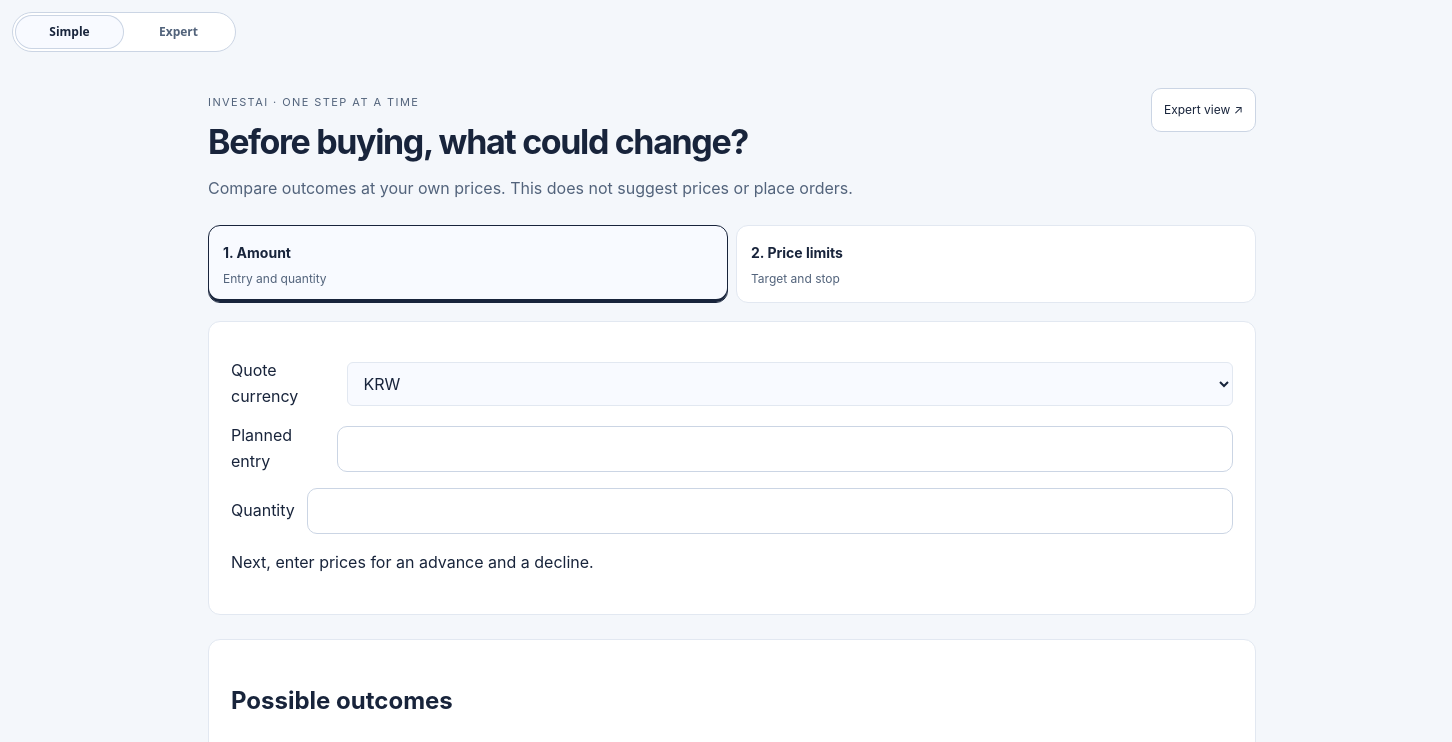
Test case: keeps purchase inputs when switching tasks and modes, and calculates the same outcome
The width and height of the screenshot is (1452, 742).
Type "100" into the number field labelled "Planned entry". click: point(785, 449)
box: top-left (336, 426), bottom-right (1233, 472)
Type "2" into the number field labelled "Quantity". click: point(770, 511)
box: top-left (307, 488), bottom-right (1233, 534)
Click the button "2. Price limits Target and stop". click: point(797, 253)
box: top-left (736, 225), bottom-right (1256, 303)
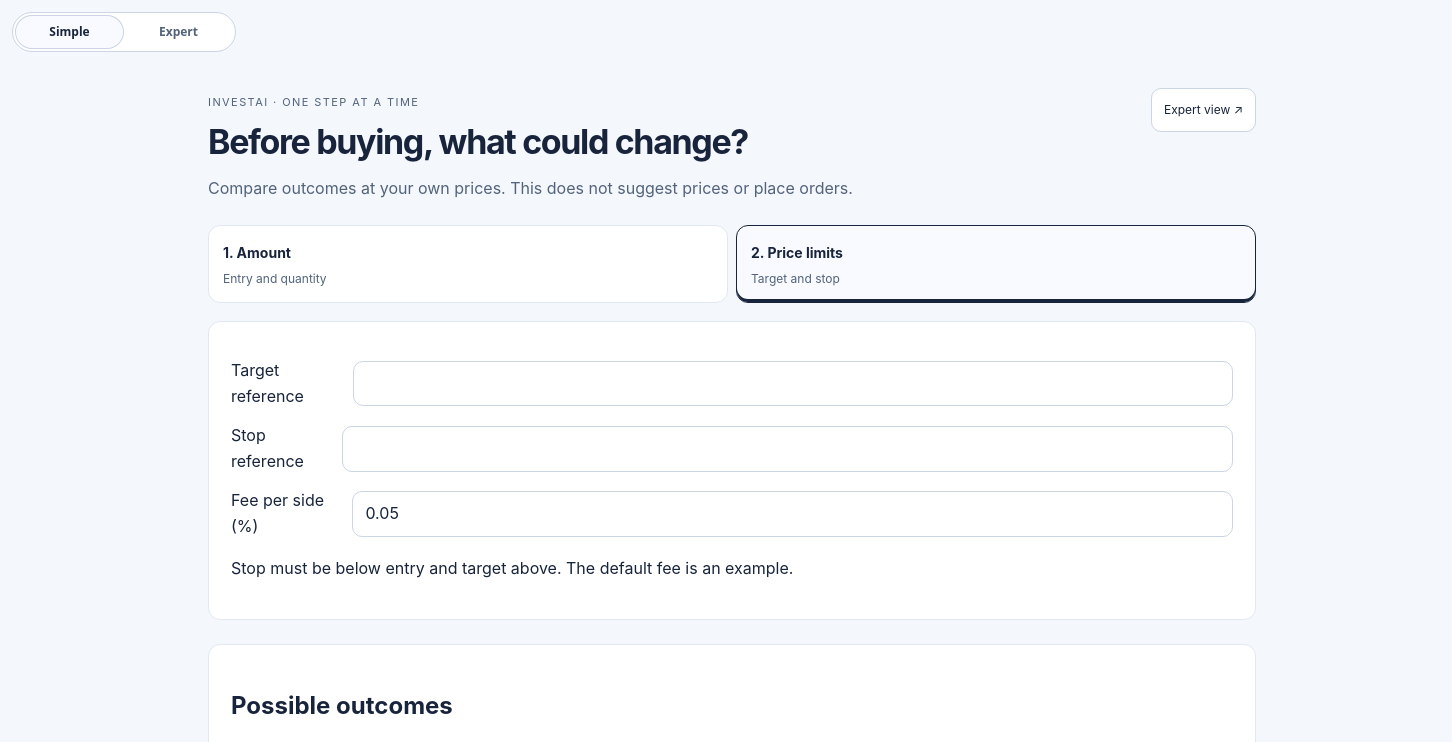
Type "120" into the number field labelled "Target reference". click: point(793, 384)
box: top-left (353, 361), bottom-right (1233, 406)
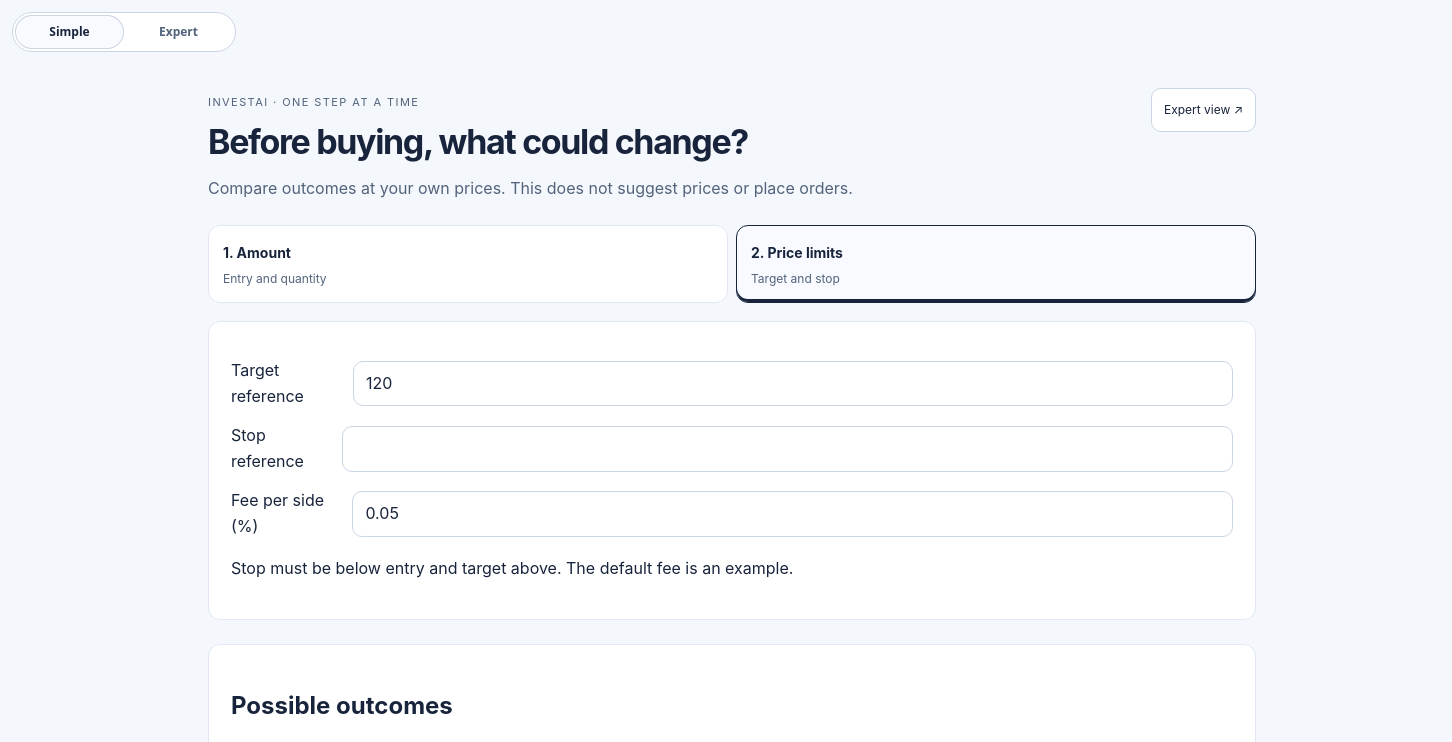
Type "90" into the number field labelled "Stop reference". click: point(788, 449)
box: top-left (342, 426), bottom-right (1233, 472)
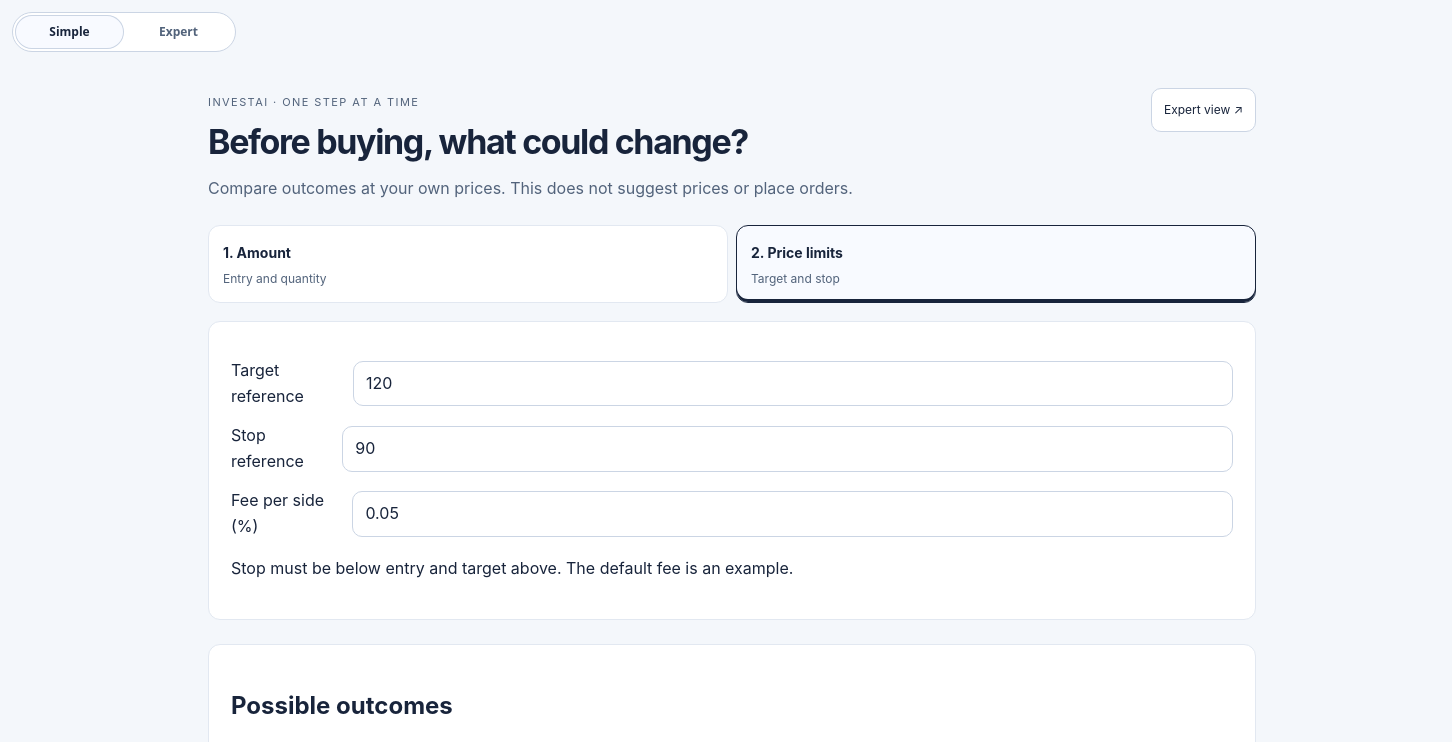
Click the button with aria-label "Expert Mode". click: point(178, 32)
box: top-left (124, 15), bottom-right (233, 49)
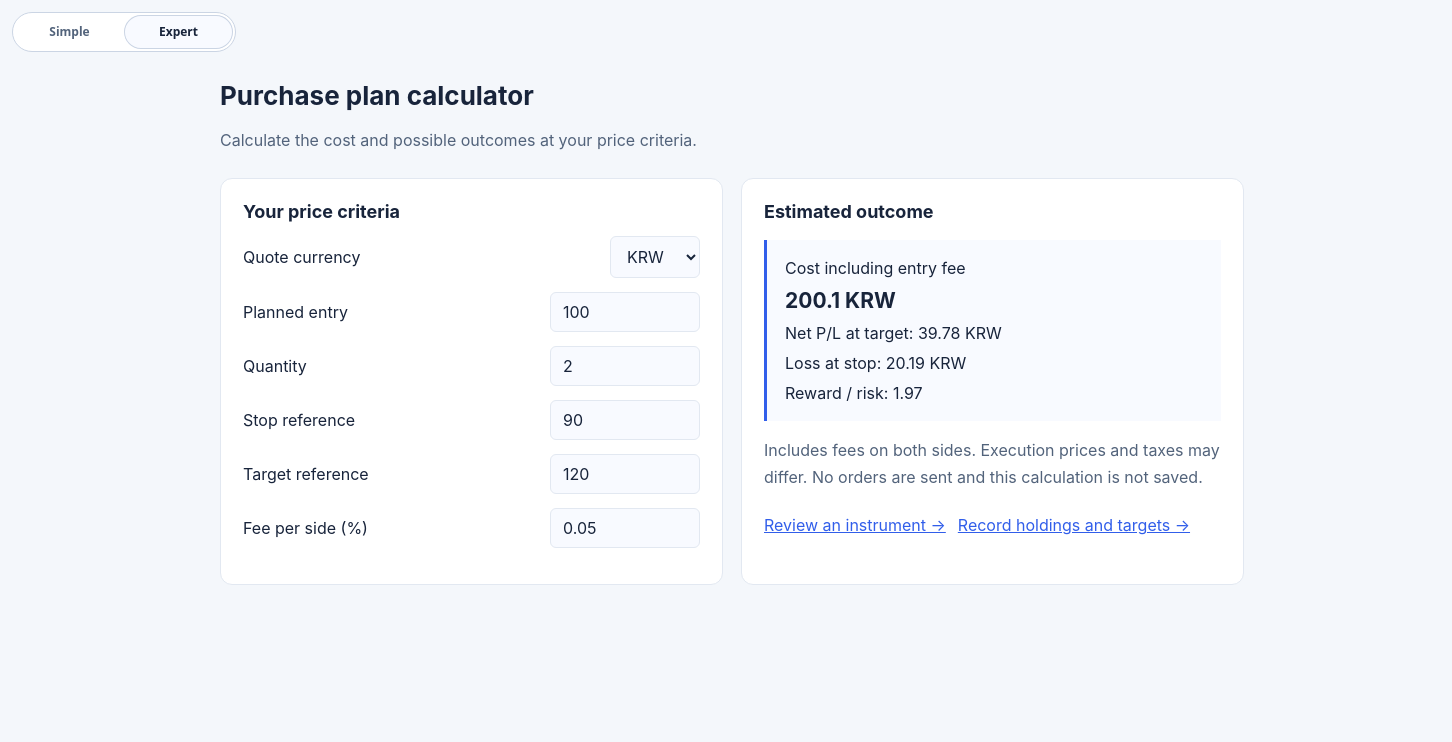
Result: the text "200.1 KRW" is shown at top-left (785, 288), bottom-right (896, 313)
Result: the number field labelled "Quantity" holds "2" at top-left (550, 346), bottom-right (700, 386)
Click the button with aria-label "Simple Mode". click: point(70, 32)
box: top-left (15, 15), bottom-right (124, 49)
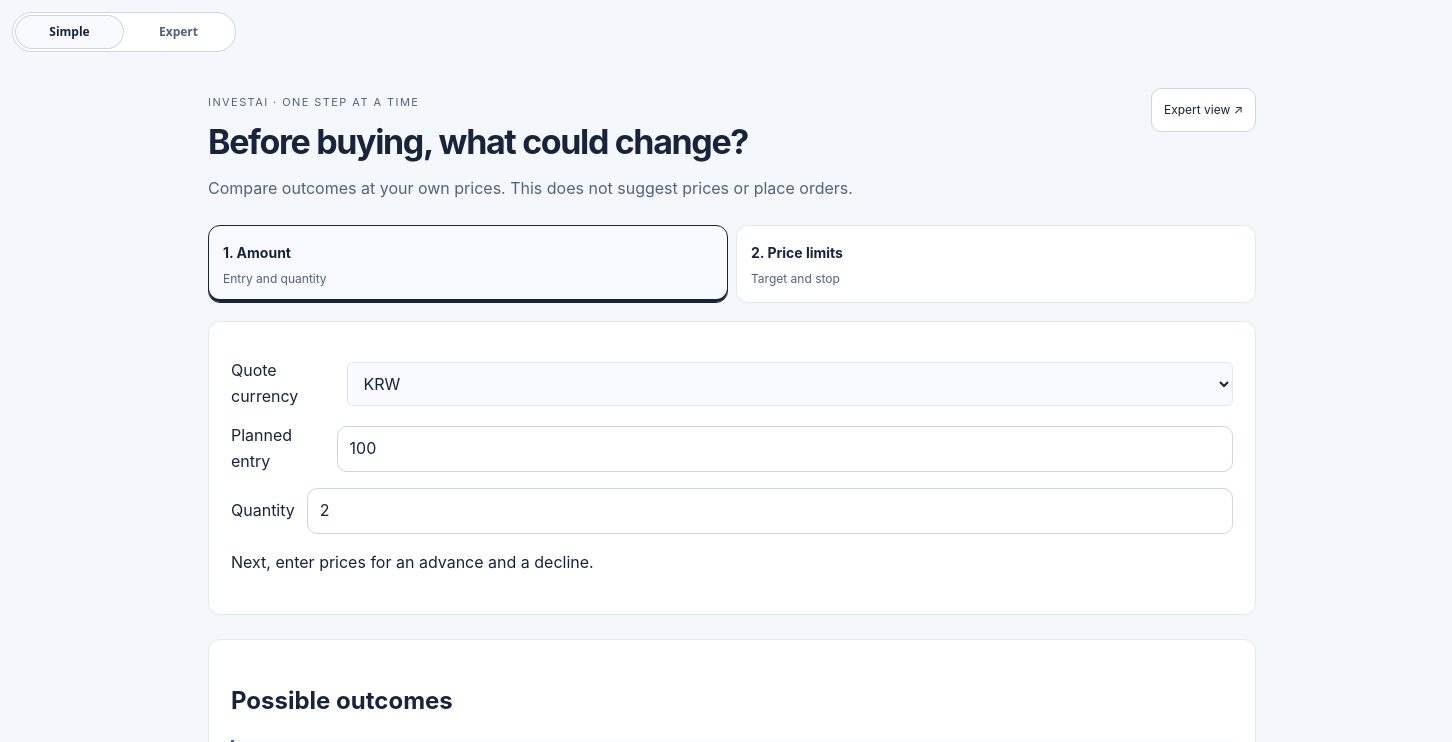
Click the button "2. Price limits Target and stop". click: point(797, 253)
box: top-left (736, 225), bottom-right (1256, 303)
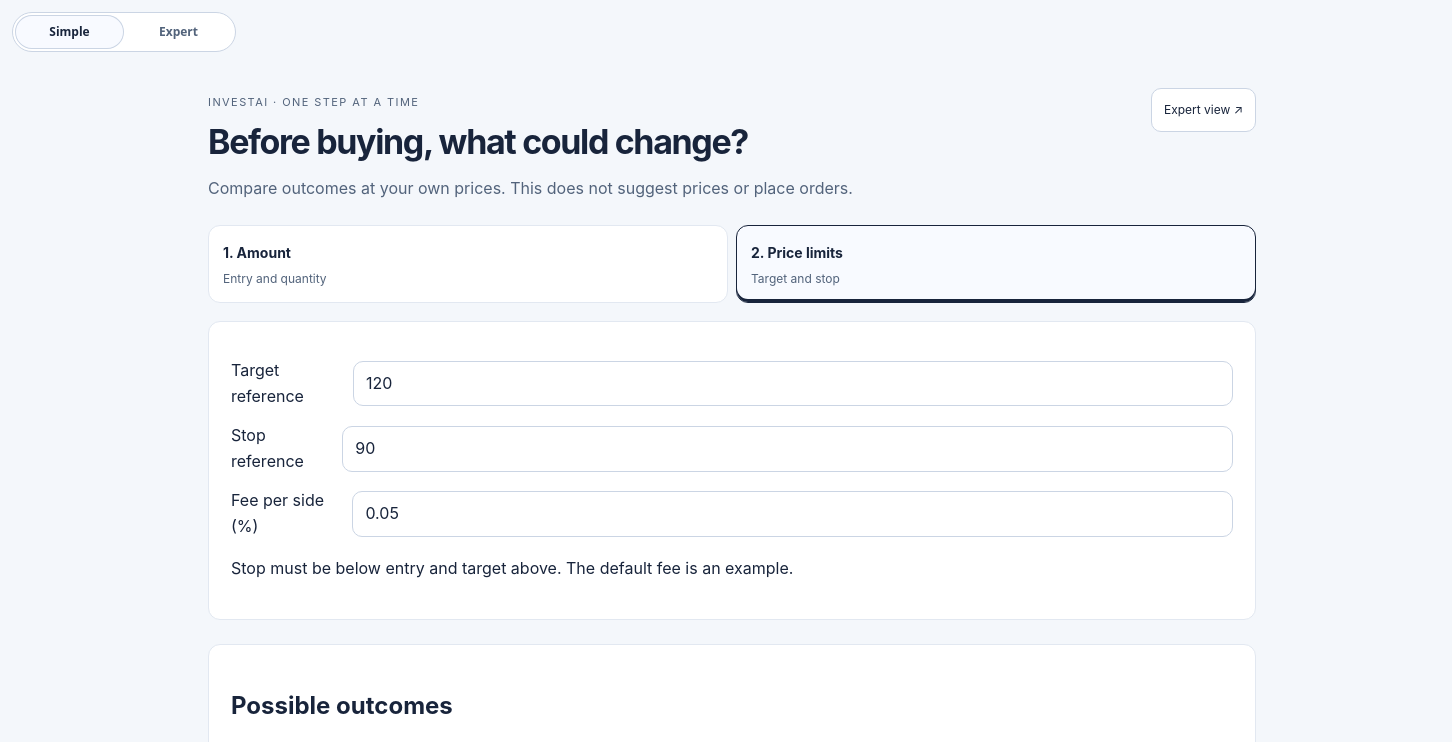
Result: the number field labelled "Stop reference" holds "90" at top-left (342, 426), bottom-right (1233, 472)
